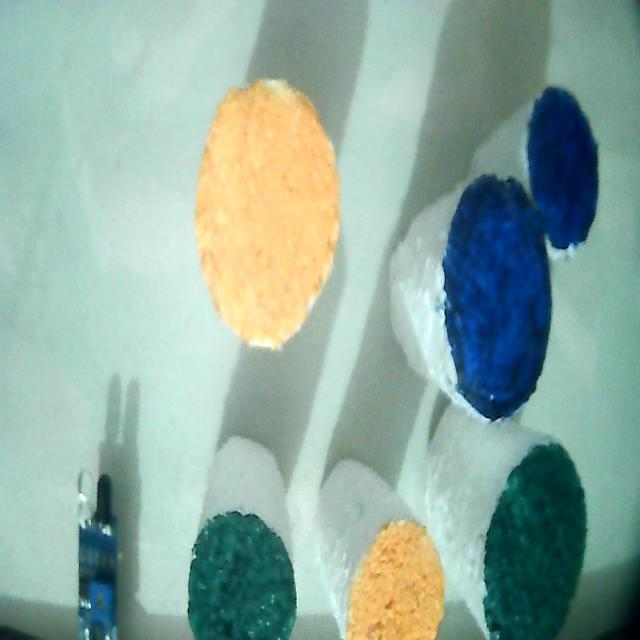blue: (443, 177, 551, 419), (527, 88, 598, 249)
green: (484, 445, 586, 639), (188, 514, 296, 639)
yellow: (195, 80, 339, 349), (346, 523, 443, 639)
